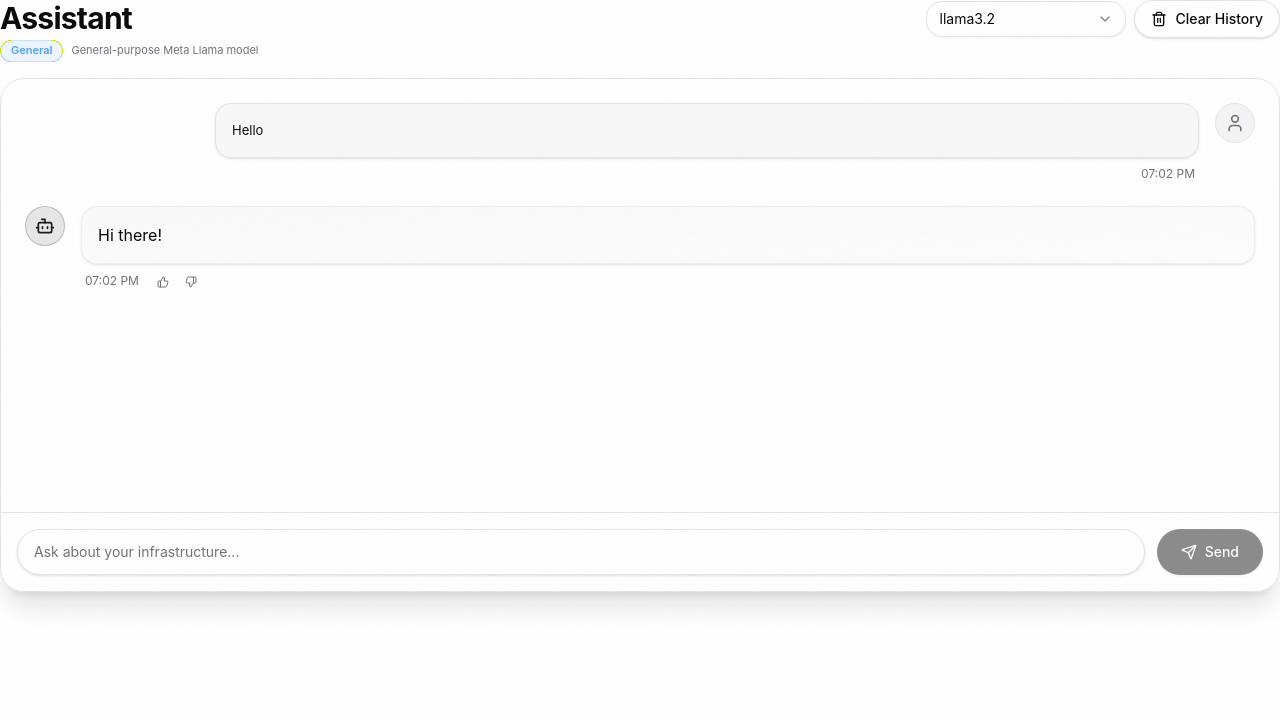
Test: Clear history flow (#1050) › opens the confirm dialog when Clear History button is clicked
Click the button "Clear History" at (1207, 19), box 1134,0 -> 1279,38
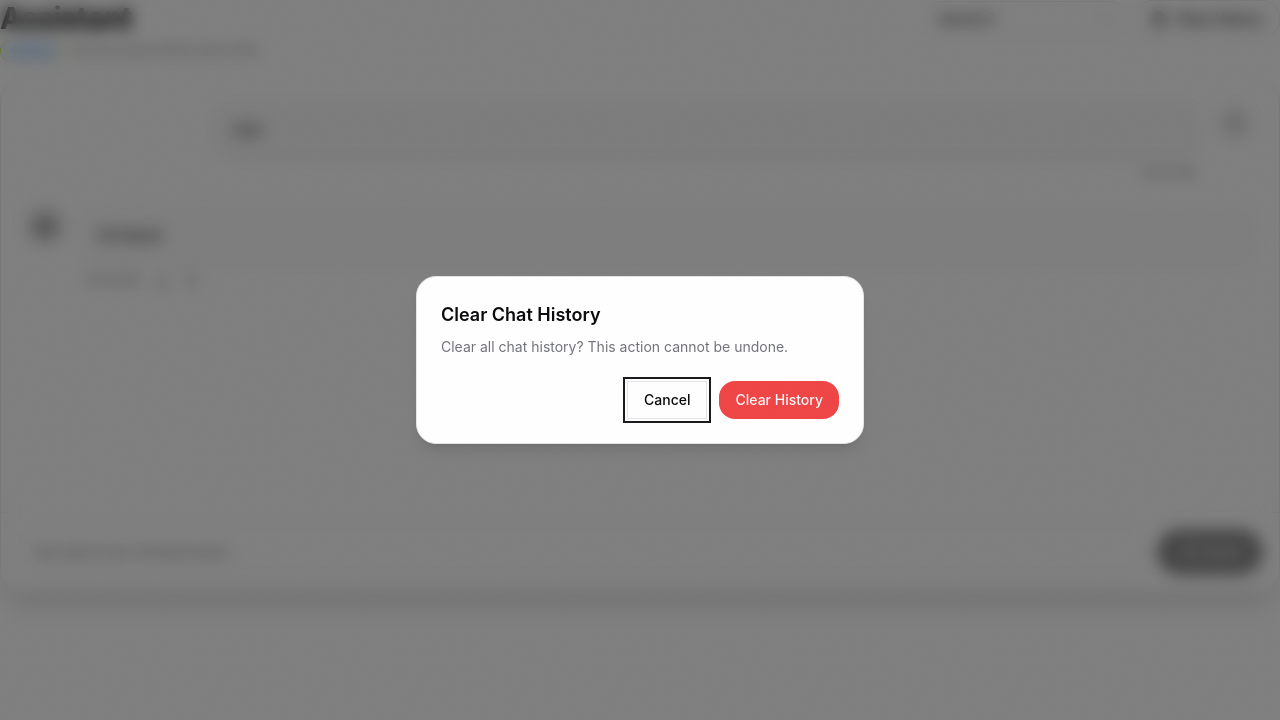
Now the dialog is shown, box 416,276 -> 864,444
Now the heading "Clear Chat History" is shown, box 441,304 -> 600,325
Now the text "Clear all chat history? This action cannot be undone." is shown, box 441,337 -> 839,357
